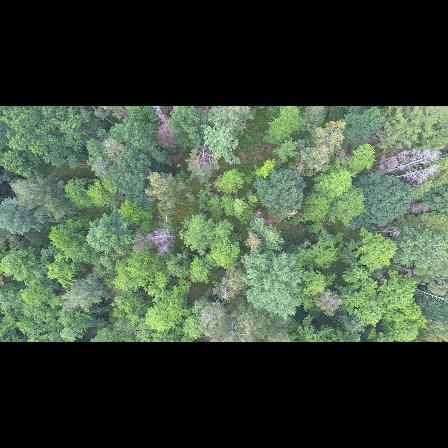Dead: (383, 152, 442, 174), (150, 214, 178, 259), (150, 109, 177, 147), (396, 163, 444, 182), (372, 150, 407, 166)
Sick: (194, 142, 218, 172)
